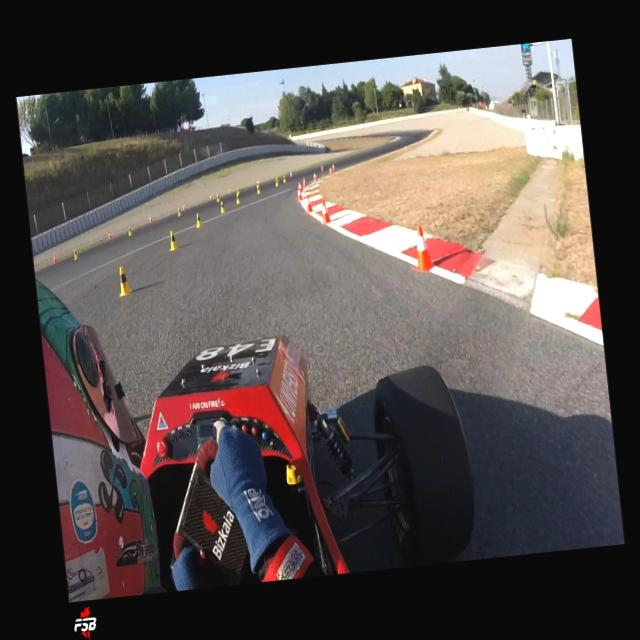orange_cone: (409, 223, 434, 272), (320, 198, 330, 224), (305, 192, 312, 212), (296, 186, 302, 200), (298, 180, 302, 192), (302, 177, 306, 187), (312, 172, 316, 182), (148, 212, 152, 222), (182, 202, 186, 212), (328, 165, 332, 174), (331, 163, 335, 172), (52, 254, 56, 262), (208, 193, 212, 201), (288, 170, 292, 178), (319, 163, 323, 171), (108, 230, 111, 239), (228, 188, 232, 194)
yellow_cone: (116, 266, 132, 296), (166, 229, 178, 250), (194, 212, 202, 227), (72, 247, 78, 259), (219, 200, 225, 212), (127, 225, 132, 236), (236, 192, 240, 204), (216, 192, 220, 202), (177, 207, 181, 216), (256, 186, 260, 194), (282, 175, 286, 182), (275, 178, 278, 186), (236, 187, 239, 194)
